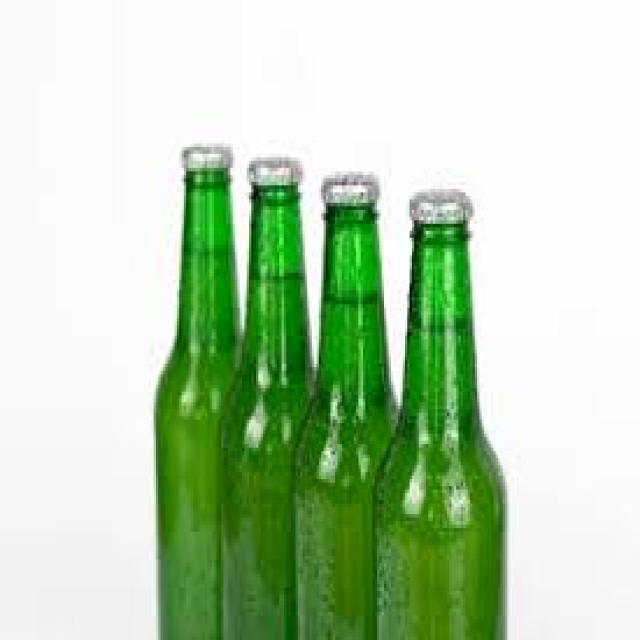Glass: (370, 186, 511, 640), (292, 169, 399, 640), (215, 149, 316, 640), (150, 138, 245, 640)
